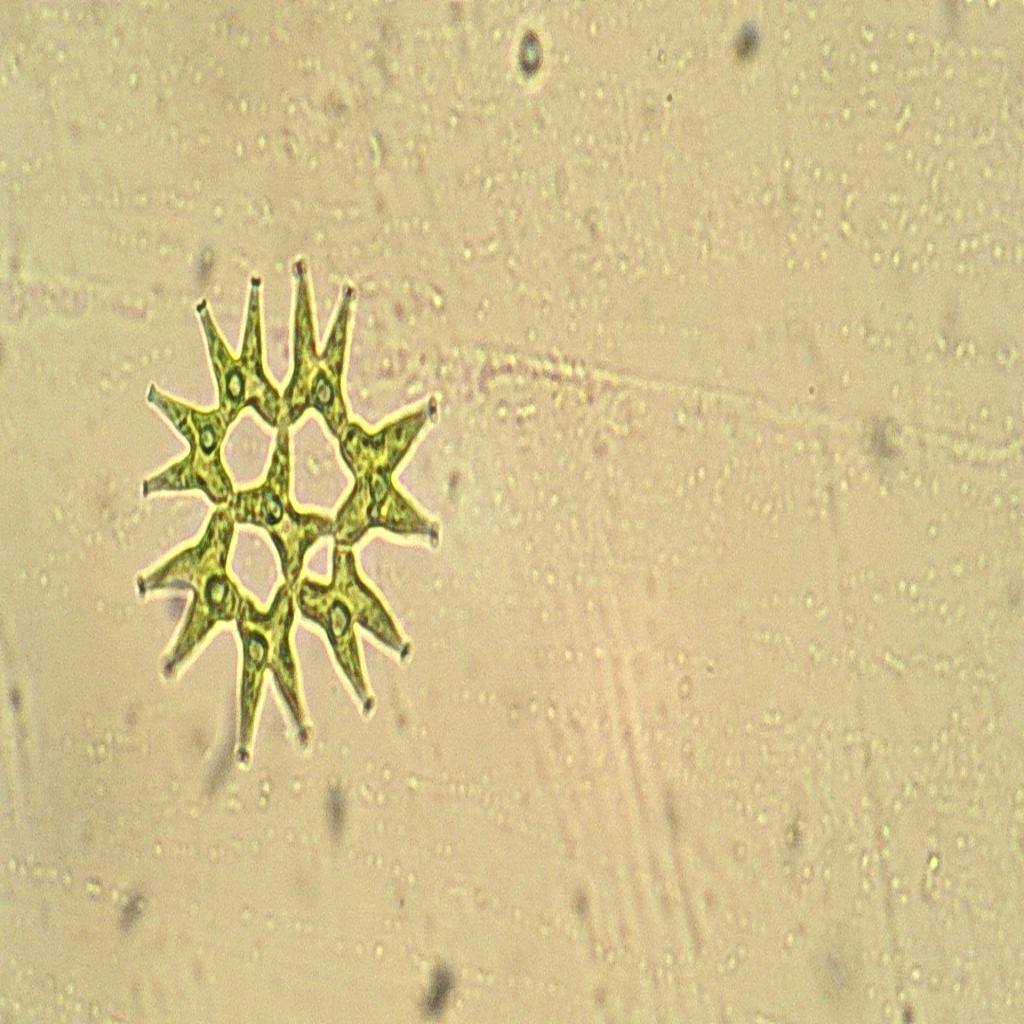Pediastrum_75T: (123, 239, 477, 786)
